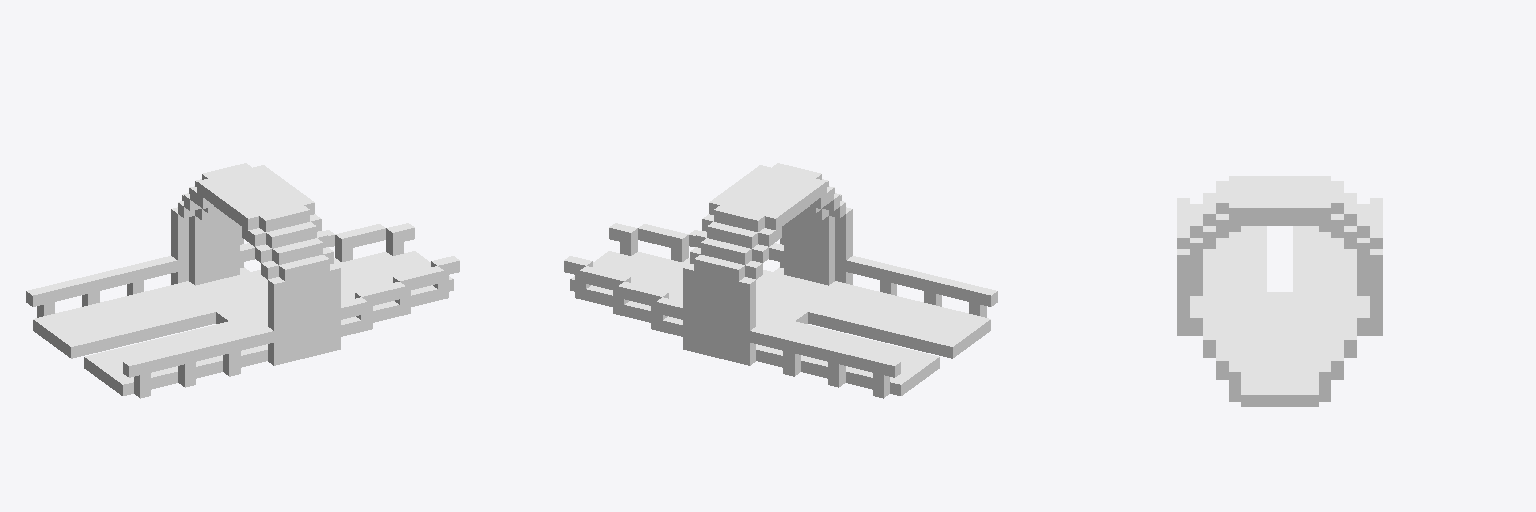
File: roadDirectAdapter.obj
3 views of the same model, side by side, from view 1: azimuth 30°, elevation 25°; view 2: azimuth 150°, elevation 25°; view 3: azimuth 270°, elevation 25° (orthographic).
Visible parts, largest first — view 1: object 1; view 2: object 1; view 3: object 1.
Boxes of the visible parts, x1,y1,x2,y2 form: object 1: [26, 163, 459, 398]; object 1: [564, 163, 997, 398]; object 1: [1177, 176, 1382, 406].
Bounding box in the file's own units: 3.2 × 1.1 × 1.6.